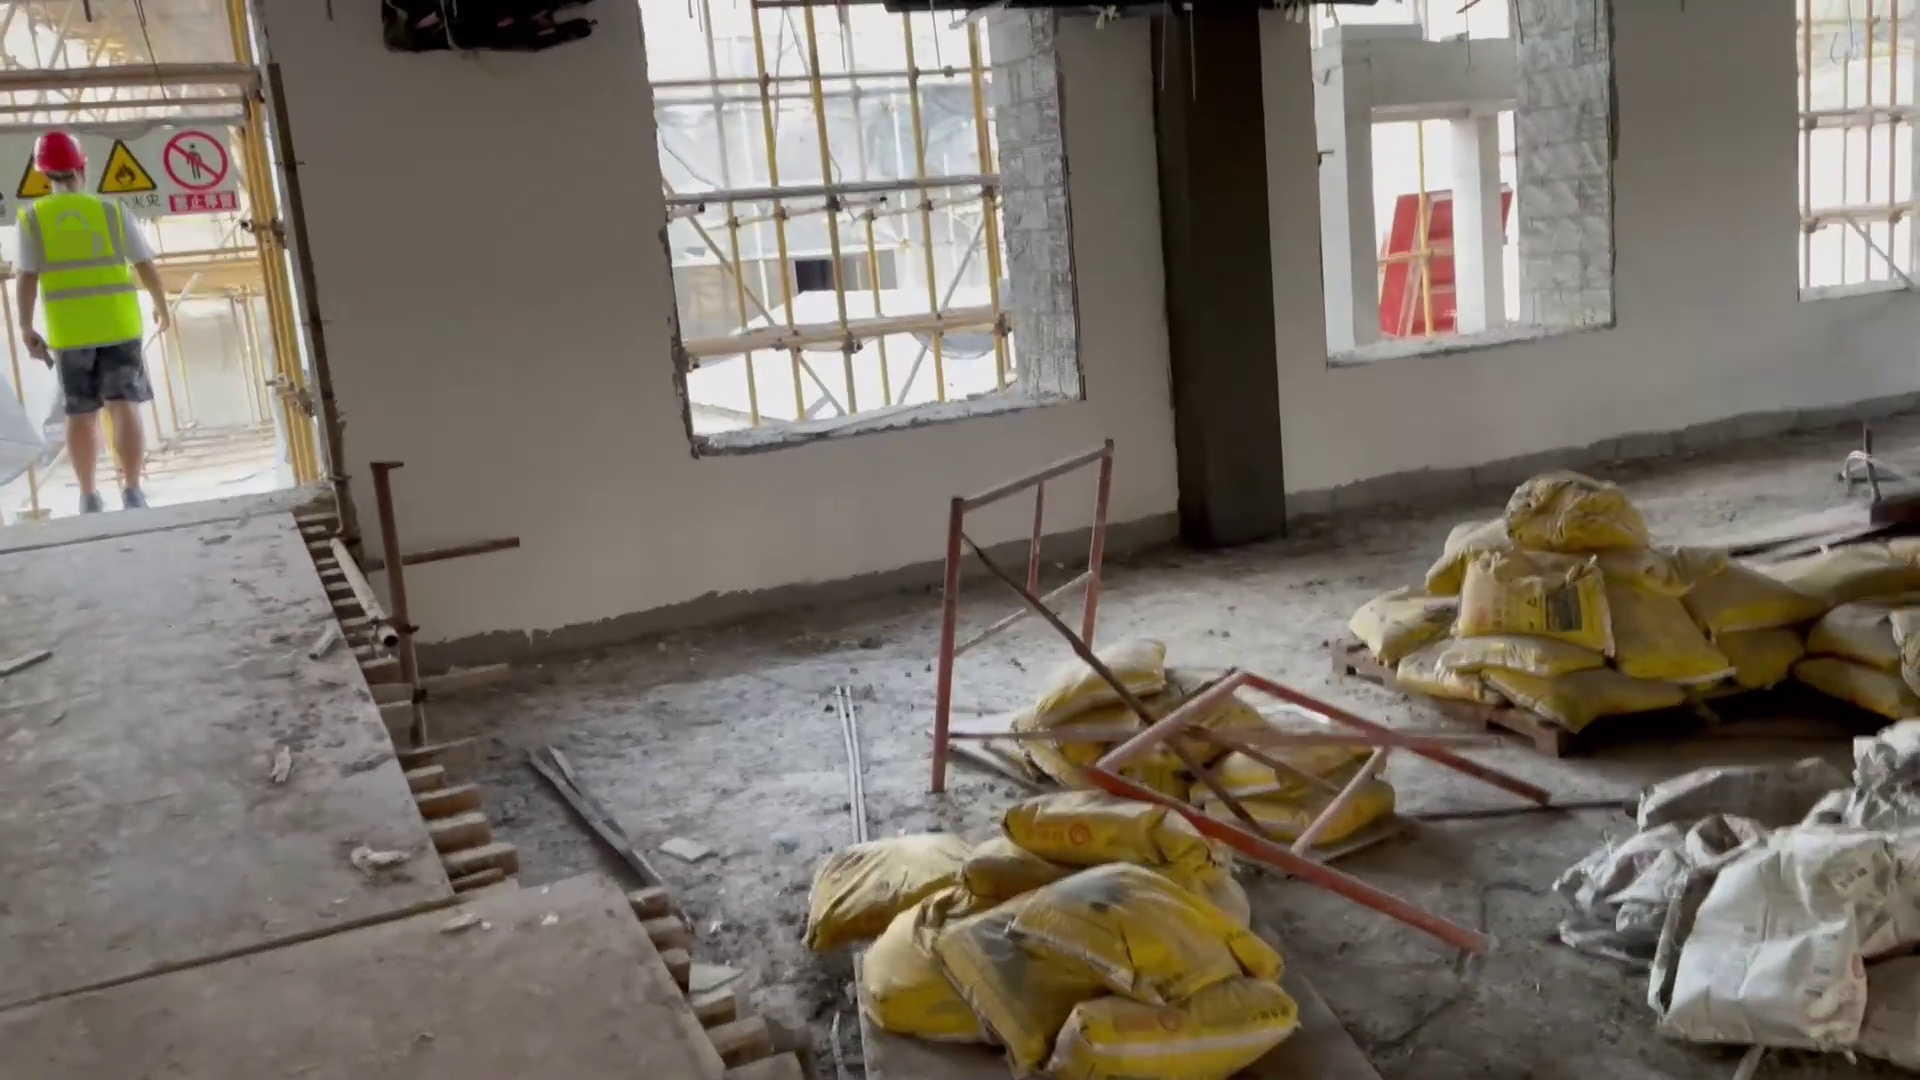helmet: (25, 132, 91, 175)
person: (14, 124, 183, 507)
vest: (26, 190, 149, 345)
